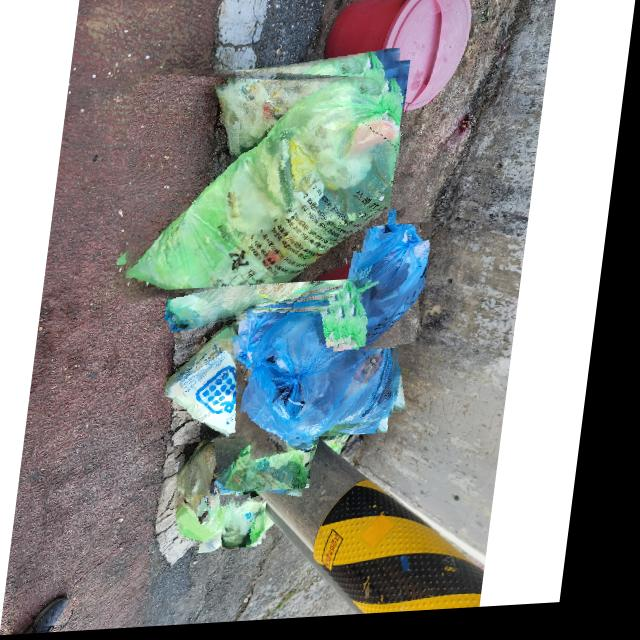general_trashbag: (133, 77, 404, 292), (177, 207, 365, 327), (178, 327, 259, 440), (190, 440, 263, 529), (233, 439, 321, 494), (191, 498, 251, 544), (240, 503, 275, 552)
other_trashbag: (252, 309, 408, 443), (362, 230, 437, 351)
